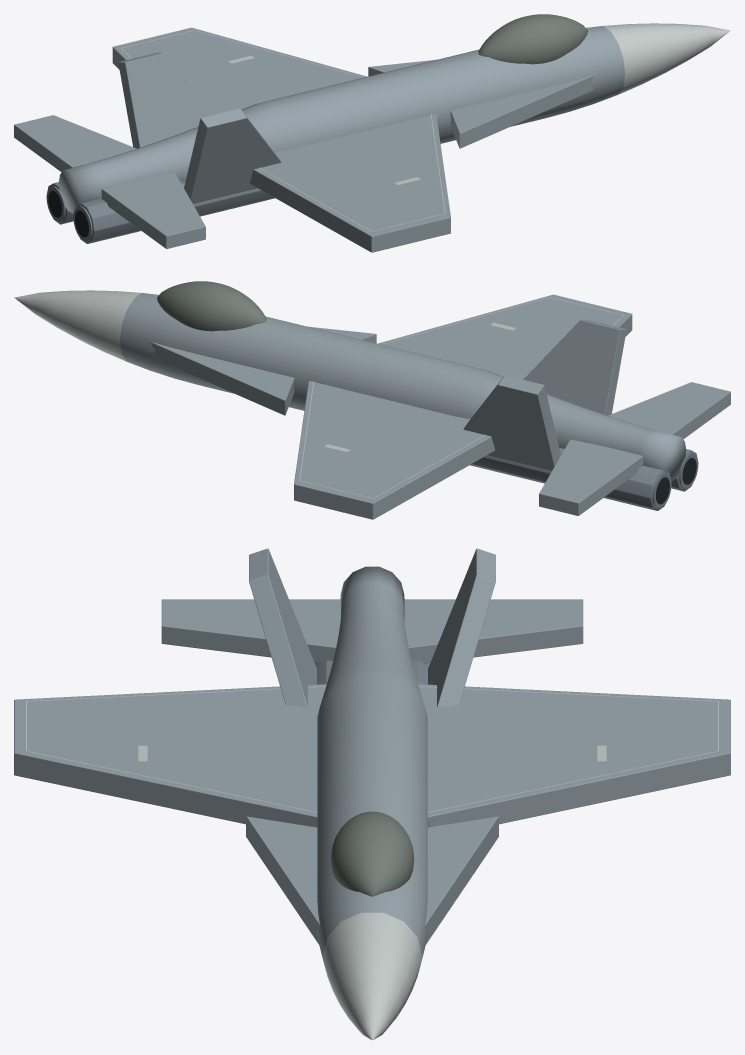
File: usn_uav_mq8c.glb
3 renders of one model, top to bottom at view 1: azimuth 30°, elevation 25°; view 2: azimuth 150°, elevation 25°; view 3: azimuth 270°, elevation 25°, orthographic. The views are drawn at different scales.
Parts seen in each view (by area): view 1: usn_uav_mq8c; view 2: usn_uav_mq8c; view 3: usn_uav_mq8c.
Part boxes in pixels (x1,y1,x2,y2): usn_uav_mq8c: (14, 14, 730, 252); usn_uav_mq8c: (14, 281, 730, 519); usn_uav_mq8c: (14, 548, 730, 1040).
Bounding box in the file's own units: 10 × 1.72 × 6.78.
